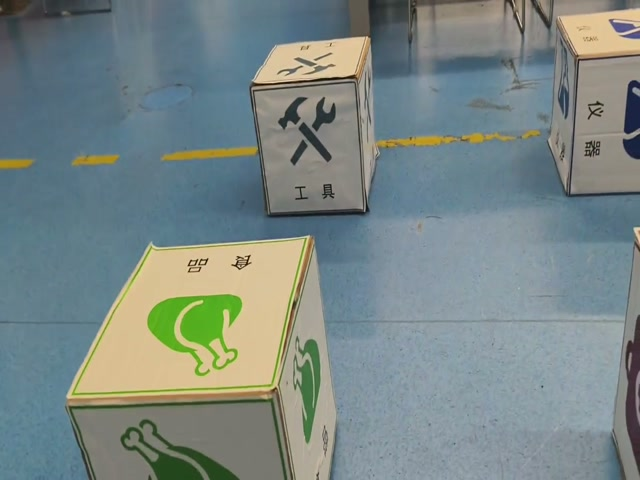Cube_food: (65, 238, 314, 407)
Cube_ins: (560, 4, 640, 59)
Cube_tool: (254, 36, 367, 92)
